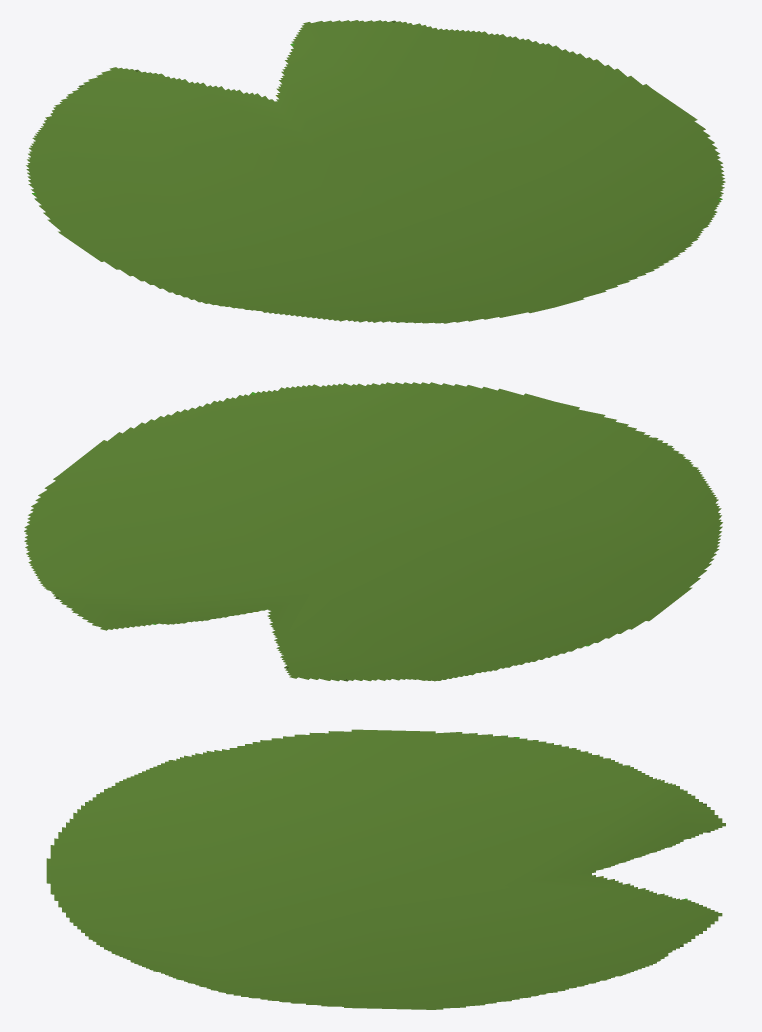
File: Water_Lily_Leaf_2.gltf
3 renders of one model, top to bottom at view 1: azimuth 30°, elevation 25°; view 2: azimuth 150°, elevation 25°; view 3: azimuth 270°, elevation 25°, orthographic. The views are drawn at different scales.
Parts seen in each view (by area): view 1: Water_Lily_Leaf_2; view 2: Water_Lily_Leaf_2; view 3: Water_Lily_Leaf_2.
Boxes of the visible parts, x1,y1,x2,y2 form: Water_Lily_Leaf_2: (26,20,725,323); Water_Lily_Leaf_2: (24,382,722,681); Water_Lily_Leaf_2: (46,729,725,1009).
Size of the model in its own units: 22.6 by 0.6852 by 23.22.
Materials: 1 (1 with a texture image).
